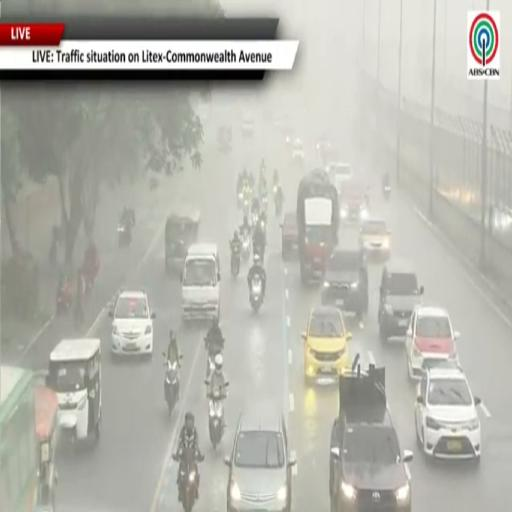bus: (0, 365, 39, 511), (35, 382, 59, 511)
car: (330, 355, 413, 511), (224, 411, 296, 511), (415, 366, 480, 460), (406, 306, 459, 379), (378, 259, 423, 341), (302, 307, 351, 381), (322, 249, 368, 319), (110, 291, 155, 356), (339, 181, 369, 223), (360, 218, 390, 260), (280, 213, 298, 261), (327, 162, 353, 194), (316, 138, 335, 165), (291, 138, 304, 162), (242, 112, 254, 137)
motorcycle: (173, 447, 203, 511), (163, 352, 182, 414), (207, 390, 226, 449), (204, 336, 224, 379), (56, 284, 74, 314), (250, 274, 263, 312), (117, 222, 131, 247), (231, 244, 240, 278), (83, 272, 94, 297), (241, 234, 250, 262), (253, 244, 264, 264), (275, 197, 282, 217), (243, 198, 250, 216), (252, 211, 259, 227), (383, 185, 390, 201), (238, 190, 244, 207), (261, 196, 267, 212)
truck: (297, 169, 339, 283)
